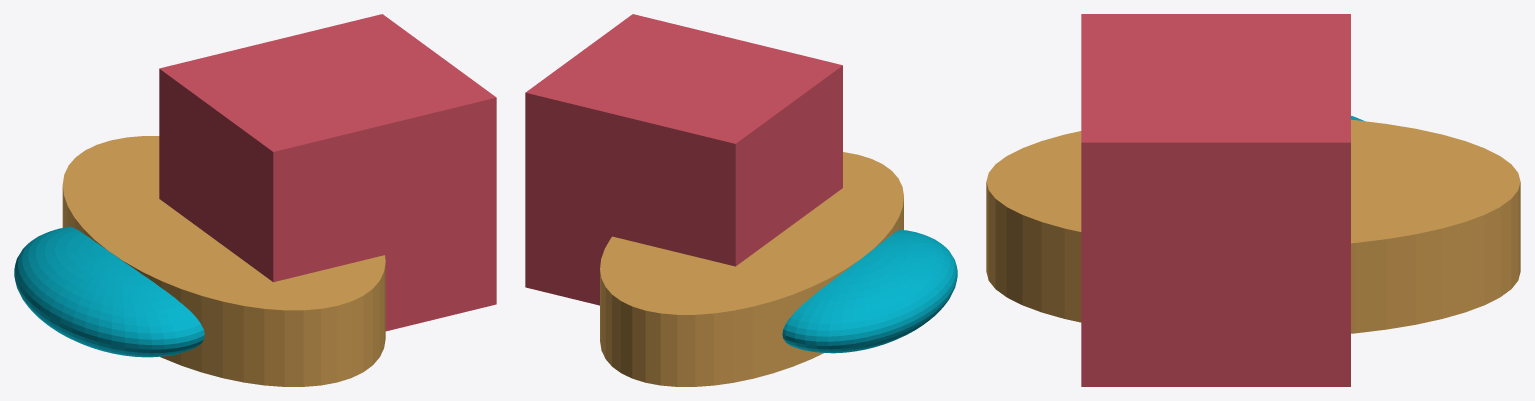
File: sample.glb
The picture shows the model from 3 angles, left to right: view 1: azimuth 30°, elevation 25°; view 2: azimuth 150°, elevation 25°; view 3: azimuth 270°, elevation 25°; orthographic projection. The views are drawn at different scales.
Parts seen in each view (by area): view 1: Mesh_Mesh_head_geo.001_lambert2SG.001; view 2: Mesh_Mesh_head_geo.001_lambert2SG.001; view 3: Mesh_Mesh_head_geo.001_lambert2SG.001.
Part boxes in pixels (x1,y1,x2,y2): Mesh_Mesh_head_geo.001_lambert2SG.001: [14, 14, 496, 386]; Mesh_Mesh_head_geo.001_lambert2SG.001: [525, 14, 957, 386]; Mesh_Mesh_head_geo.001_lambert2SG.001: [986, 14, 1520, 386].
Size of the model in its own units: 0.106 by 0.054 by 0.107.
